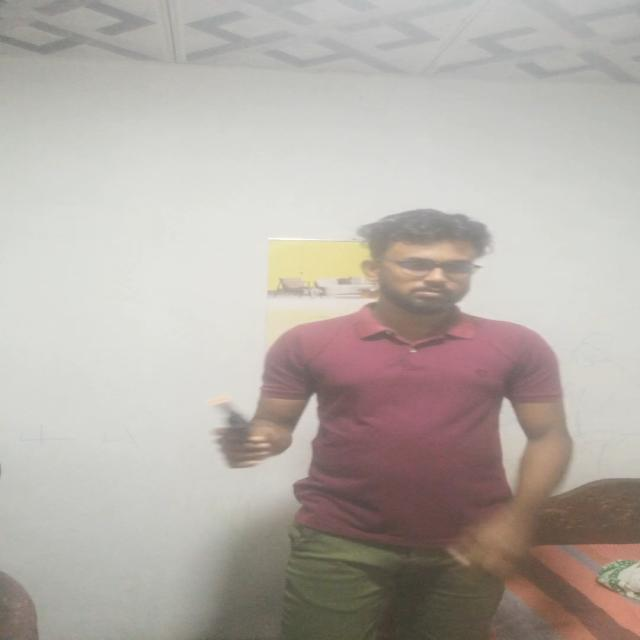Gun_Holder: (190, 391, 298, 475)
Person: (185, 209, 578, 640)
